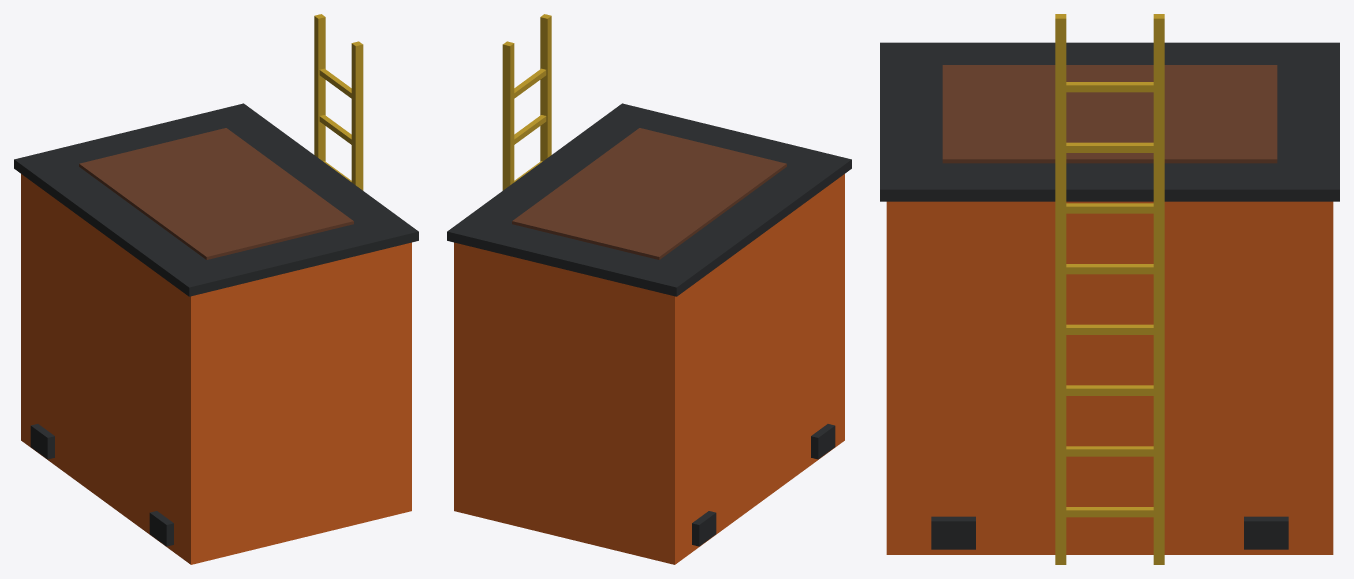
File: material_bin.glb
3 views of the same model, side by side, from view 1: azimuth 30°, elevation 25°; view 2: azimuth 150°, elevation 25°; view 3: azimuth 270°, elevation 25° (orthographic). The views are drawn at different scales.
Visible parts, largest first — view 1: material_bin; view 2: material_bin; view 3: material_bin.
Part boxes in pixels (x1,y1,x2,y2): material_bin: (14, 14, 418, 564); material_bin: (447, 14, 851, 564); material_bin: (880, 14, 1339, 564).
Size of the model in its own units: 1.65 by 2.7 by 2.06.
